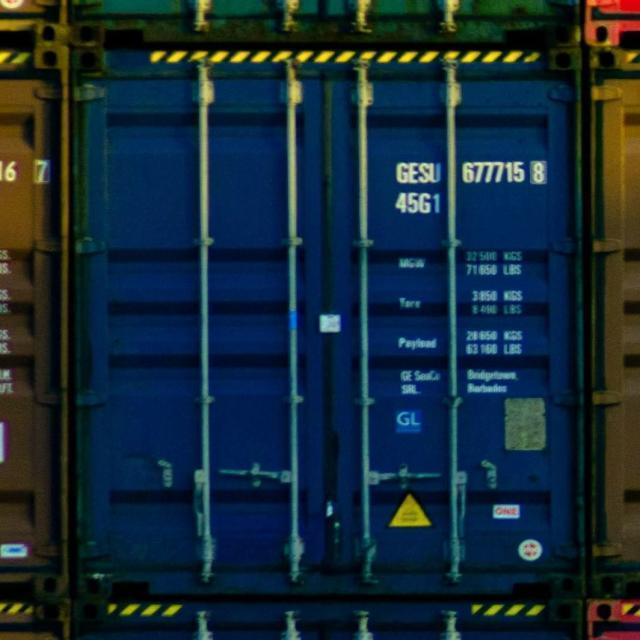ISO: (392, 193, 444, 216)
container_number: (394, 156, 550, 188)
